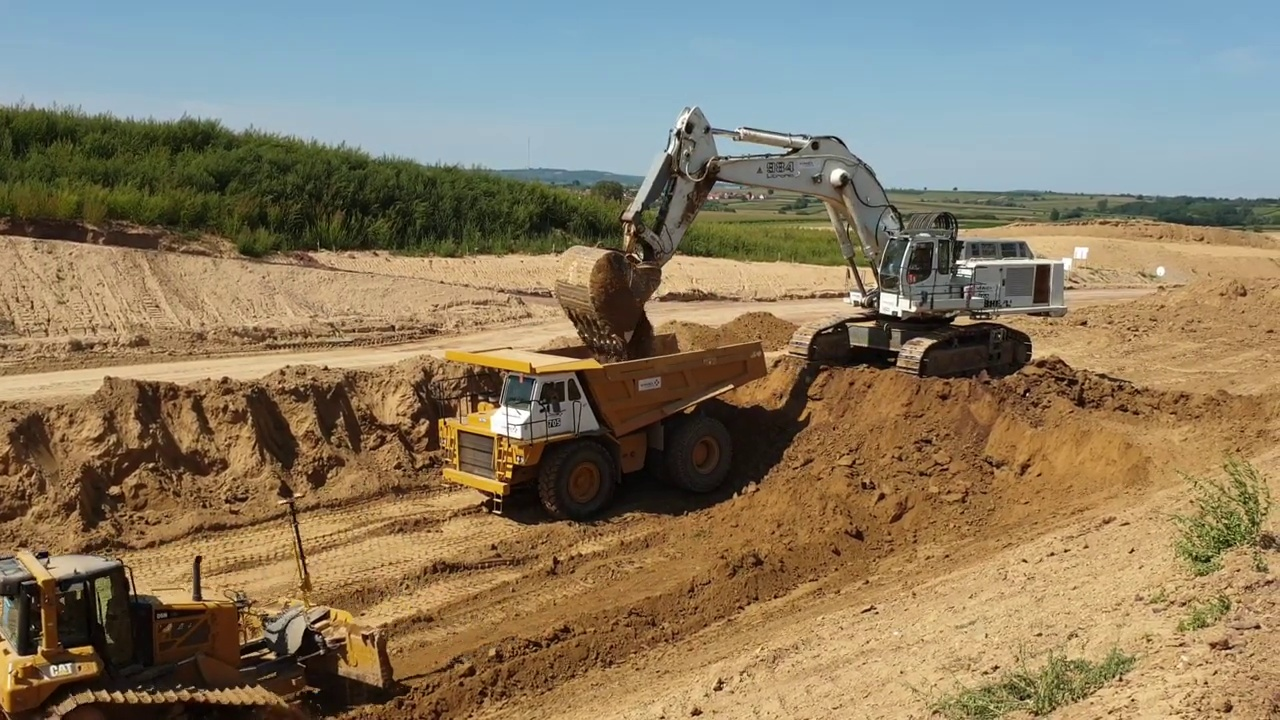bulldozer: (2, 486, 398, 720)
excavator: (552, 103, 1071, 383)
truck: (432, 327, 774, 523)
